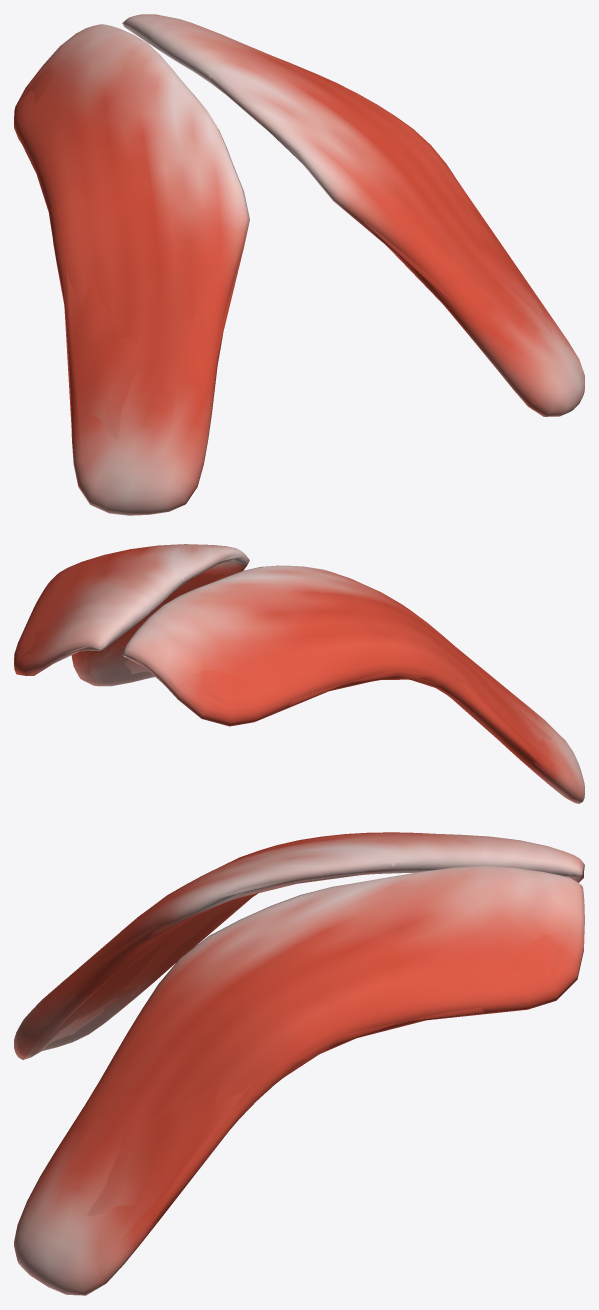
Rendered from temporalis.fbx.
3 renders of one model, top to bottom at view 1: azimuth 30°, elevation 25°; view 2: azimuth 150°, elevation 25°; view 3: azimuth 270°, elevation 25°, orthographic. The views are drawn at different scales.
Visible parts, largest first — view 1: temporalis, temporalis low; view 2: temporalis, temporalis low; view 3: temporalis, temporalis low.
Boxes of the visible parts, box(x1,y1,x2,y2) form: temporalis: box(14, 14, 584, 515); temporalis low: box(14, 19, 565, 512); temporalis: box(14, 544, 584, 803); temporalis low: box(16, 552, 582, 803); temporalis: box(14, 832, 584, 1294); temporalis low: box(18, 834, 583, 1295).
Size of the model in its own units: 18.33 by 9.83 by 16.38.
